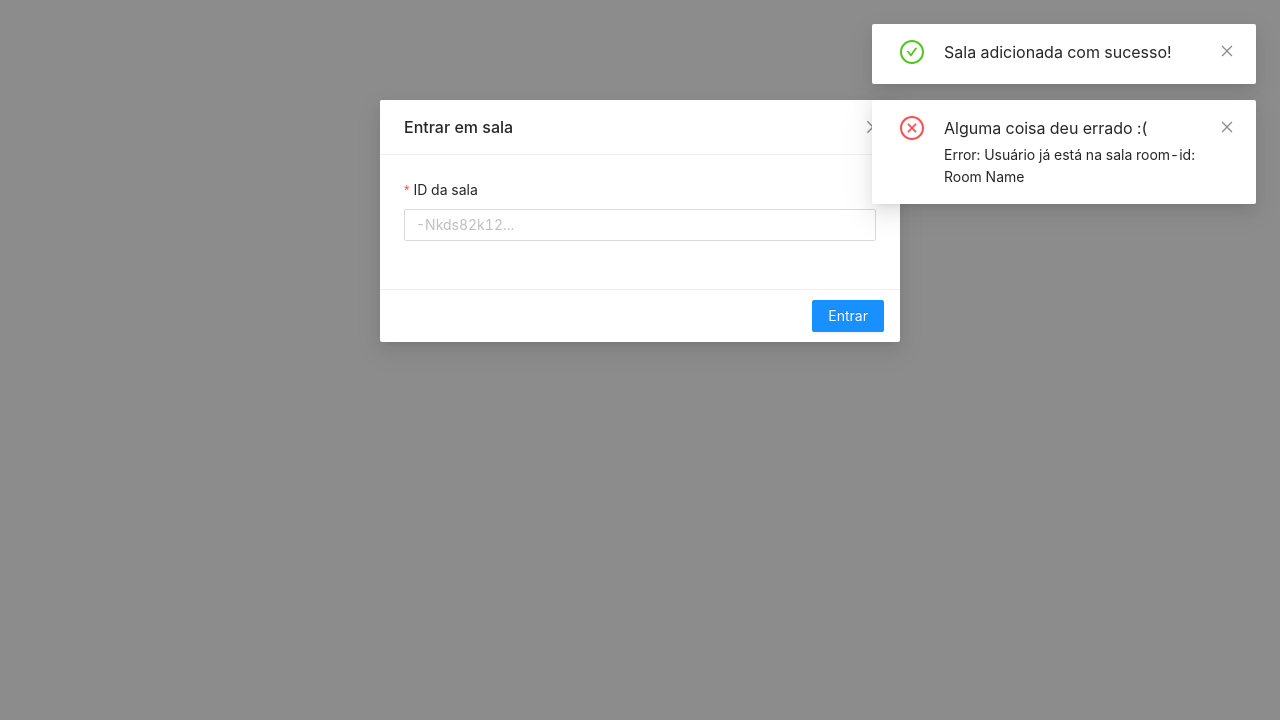
Test: JoinRoomModalForm › should show notification error if room is not found
This screenshot has width=1280, height=720.
Type "room-id" into the field at coordinates (640, 225), box [404,209,876,241]
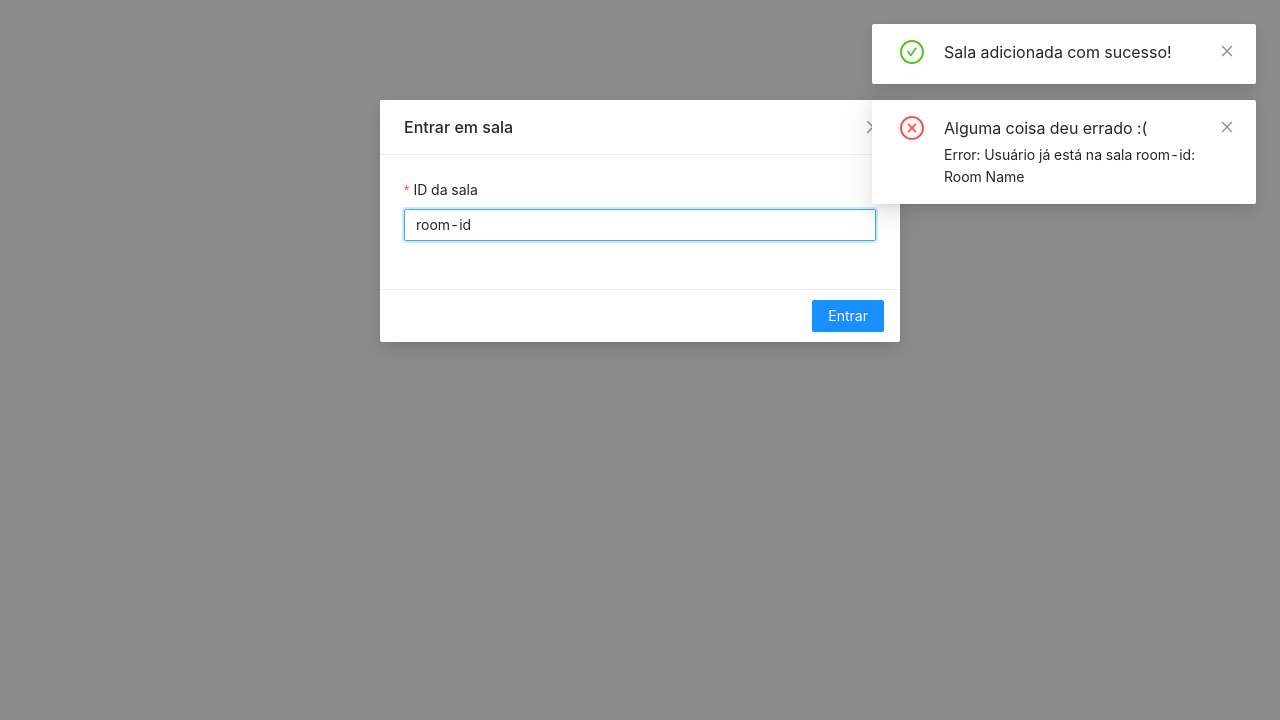
Click the button "Entrar" at coordinates (848, 316), box [812,300,884,332]
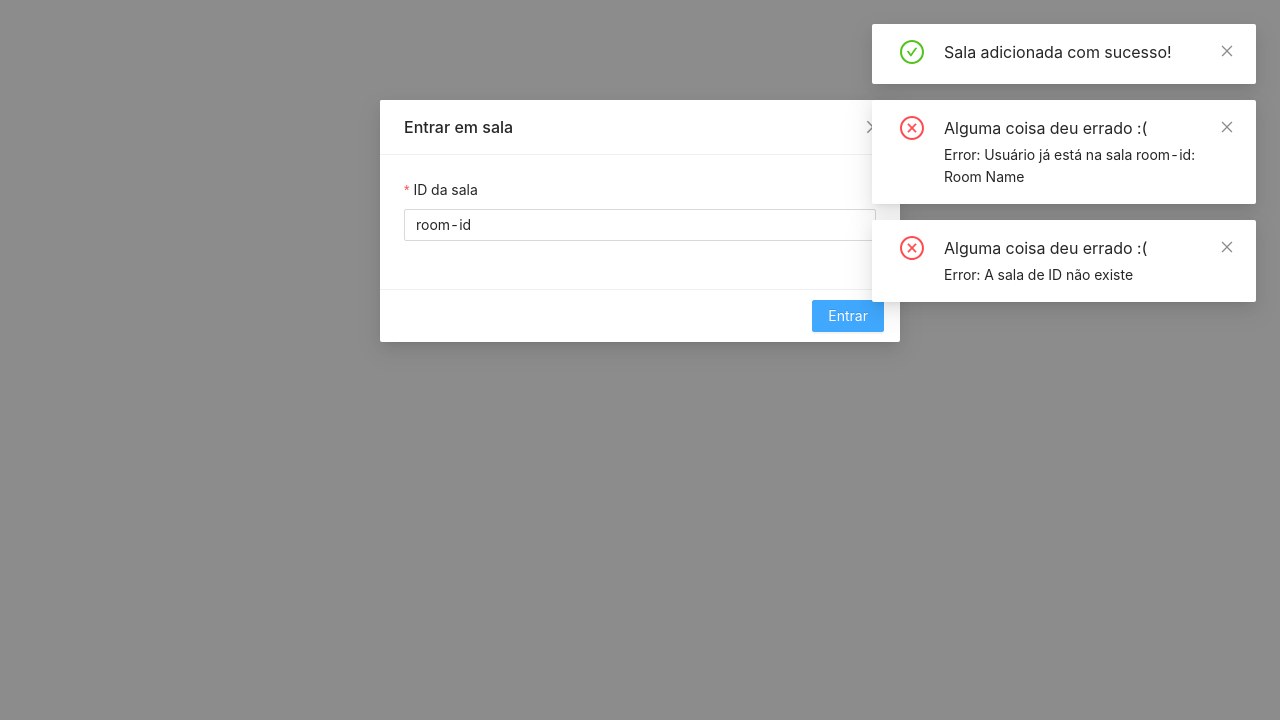
Expected: the text "Error: A sala de ID não existe" is shown, [944,266,1133,283]
